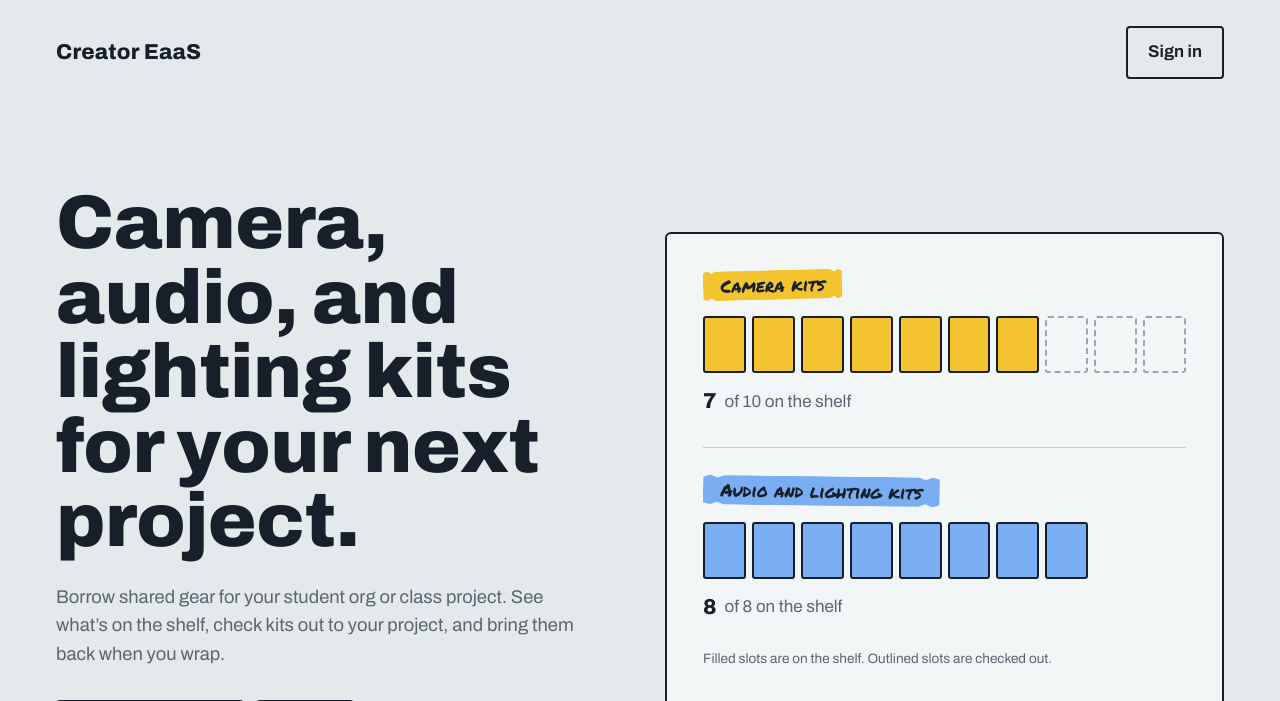
Test case: a rejected sign-in shows the server’s message and keeps the dialog open
Check: the text "Camera kits" is shown, box 703,268 -> 843,301
Click the button "Sign in" in the row of "Creator EaaS".
click(1175, 52)  # box 1126,26 -> 1224,79
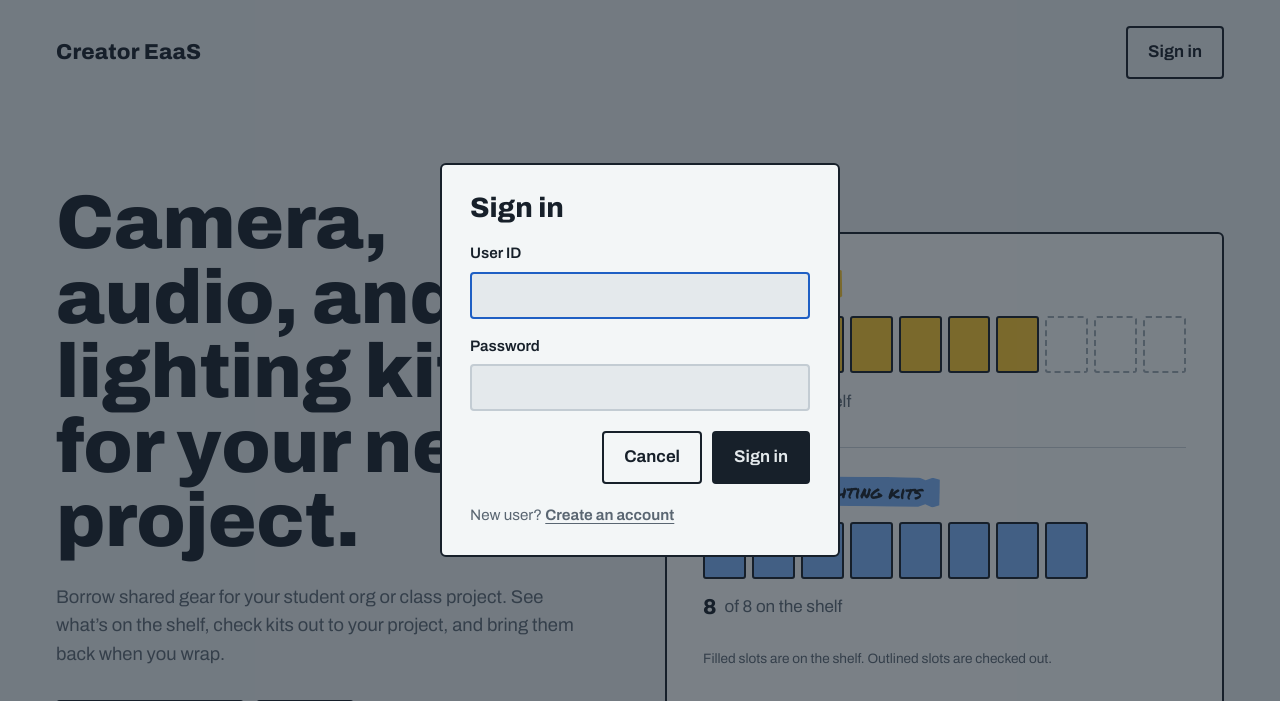
Type "alice" into the field labelled "User ID".
click(640, 295); type("alice")  # box 470,272 -> 810,318
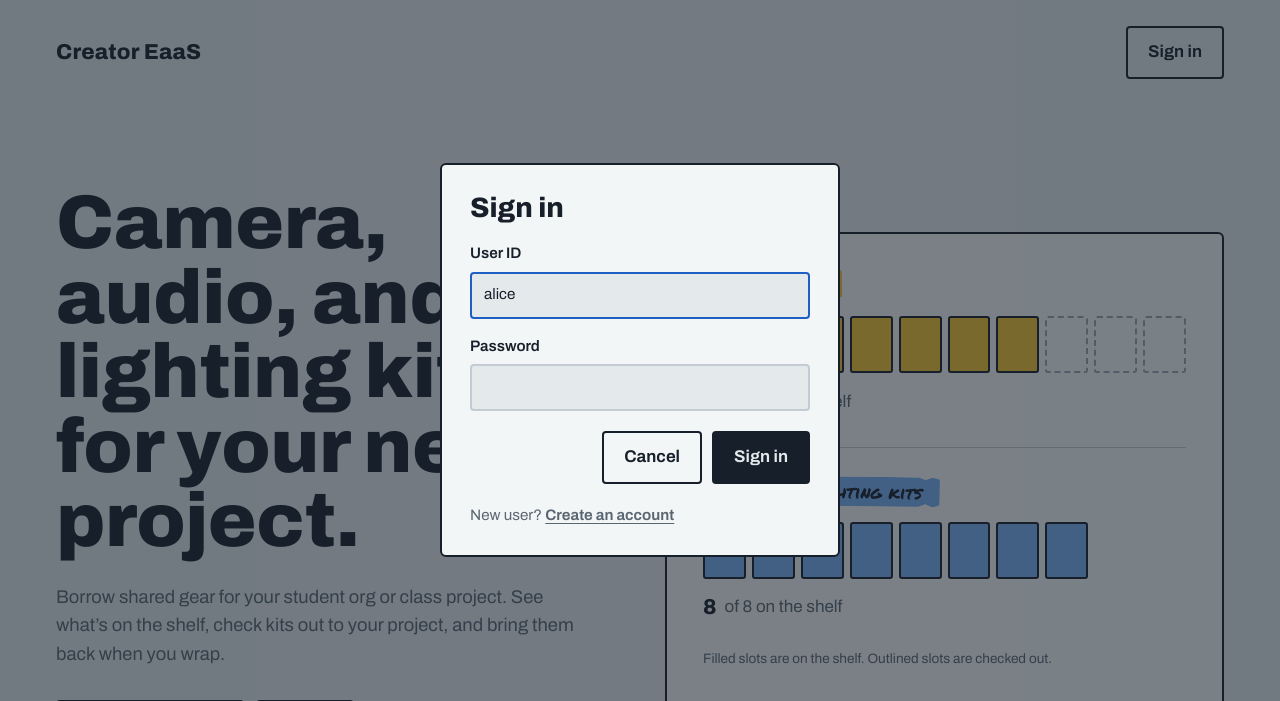
Type "not-it" into the password field labelled "Password".
click(640, 387); type("not-it")  # box 470,364 -> 810,411
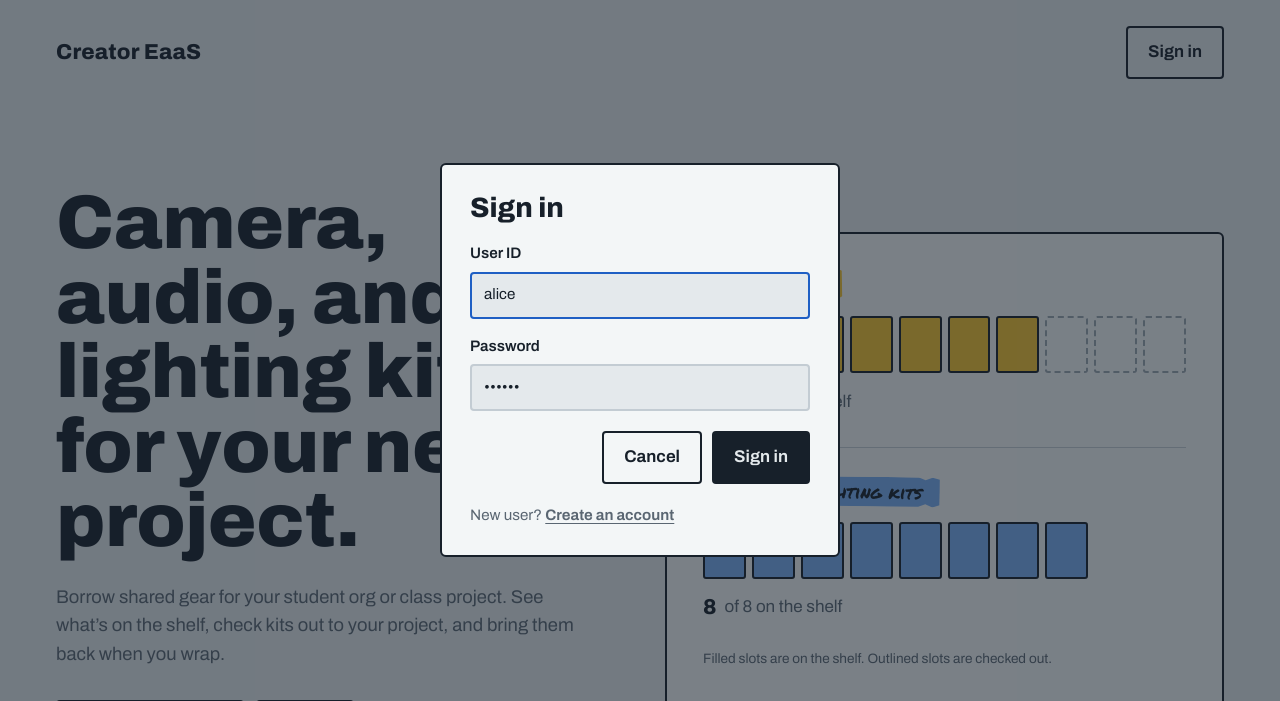
Click the button "Sign in".
click(761, 457)  # box 712,431 -> 810,484
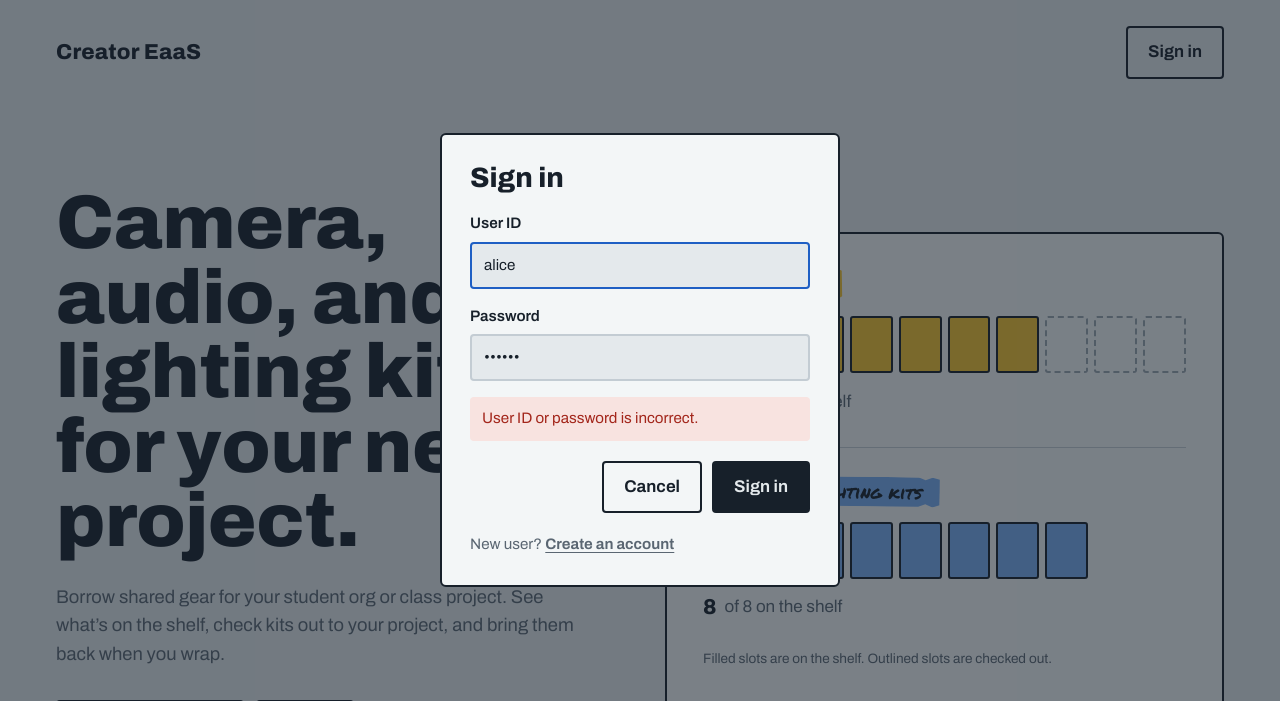
Check: the dialog is shown, box 440,133 -> 840,587
Check: the message reads "User ID or password is incorrect.", box 482,410 -> 698,426
